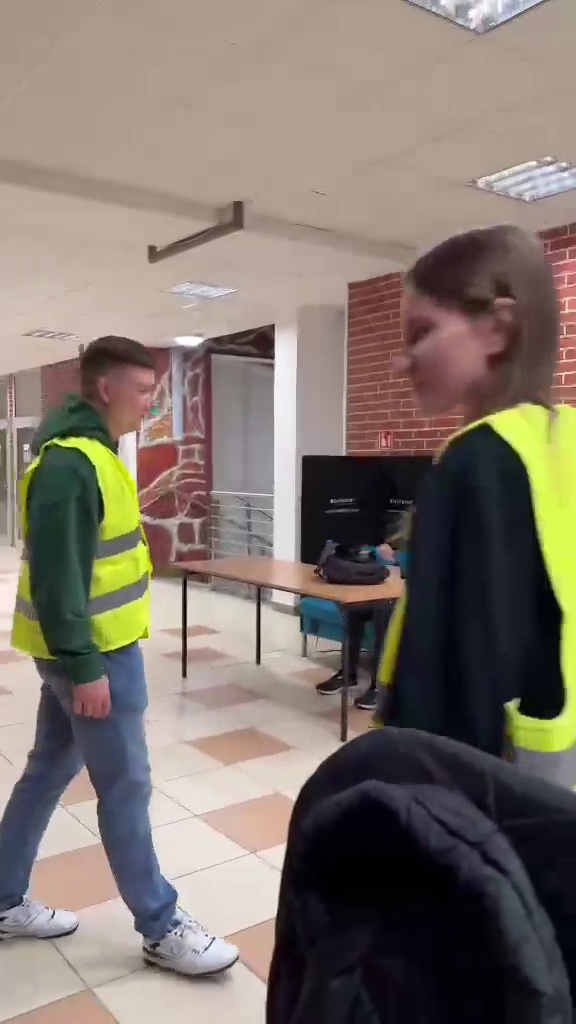vest: (10, 329, 248, 969), (389, 223, 570, 741)
